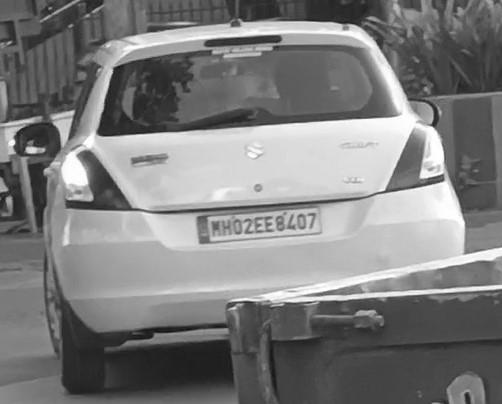number_plate: (199, 208, 320, 241)
